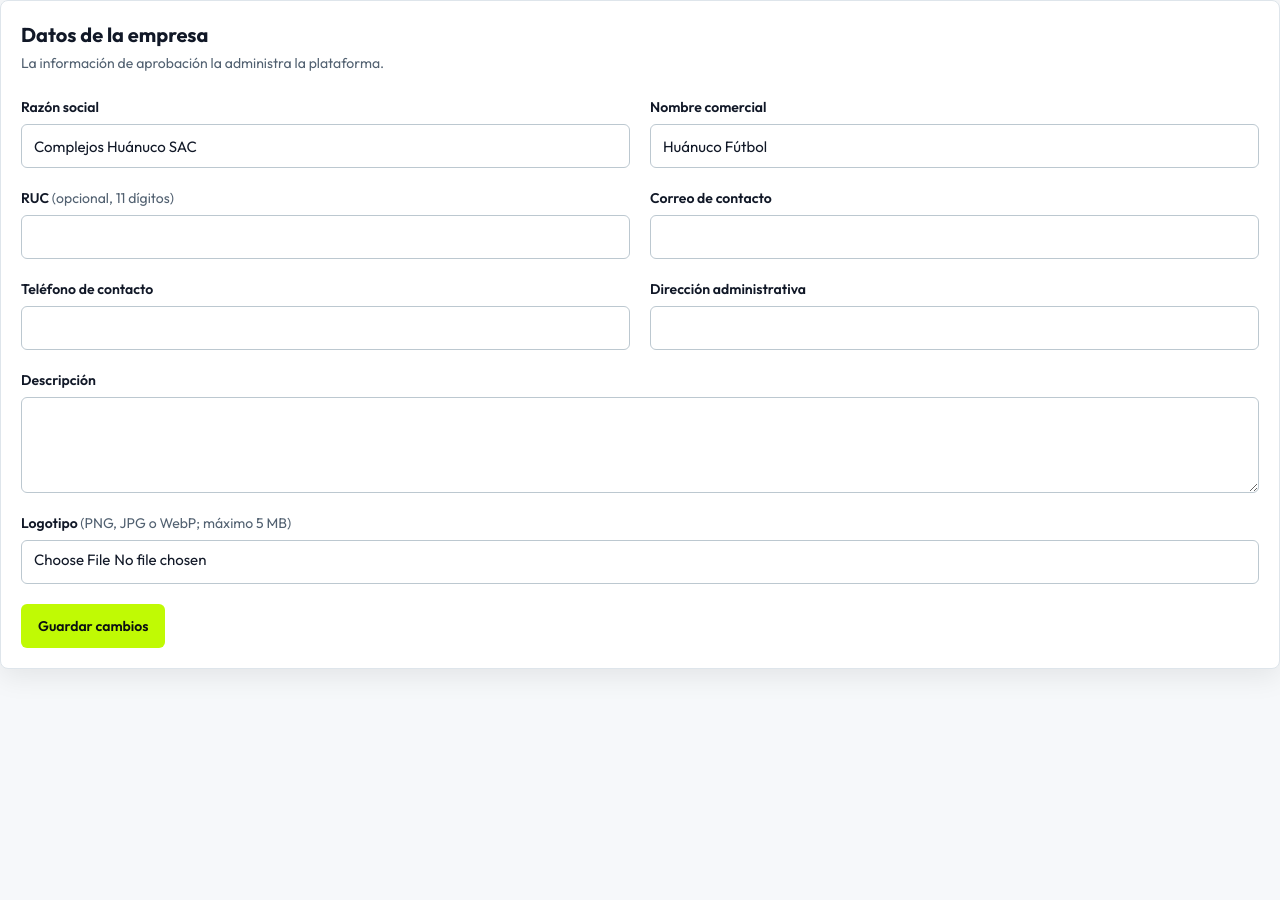
Test: Empresa y sedes › guarda cambios de empresa y anuncia el resultado
Replace the text in the field with id "nombre_comercial" with "Huánuco Nuevo" at (954, 146), box [650, 124, 1259, 168]
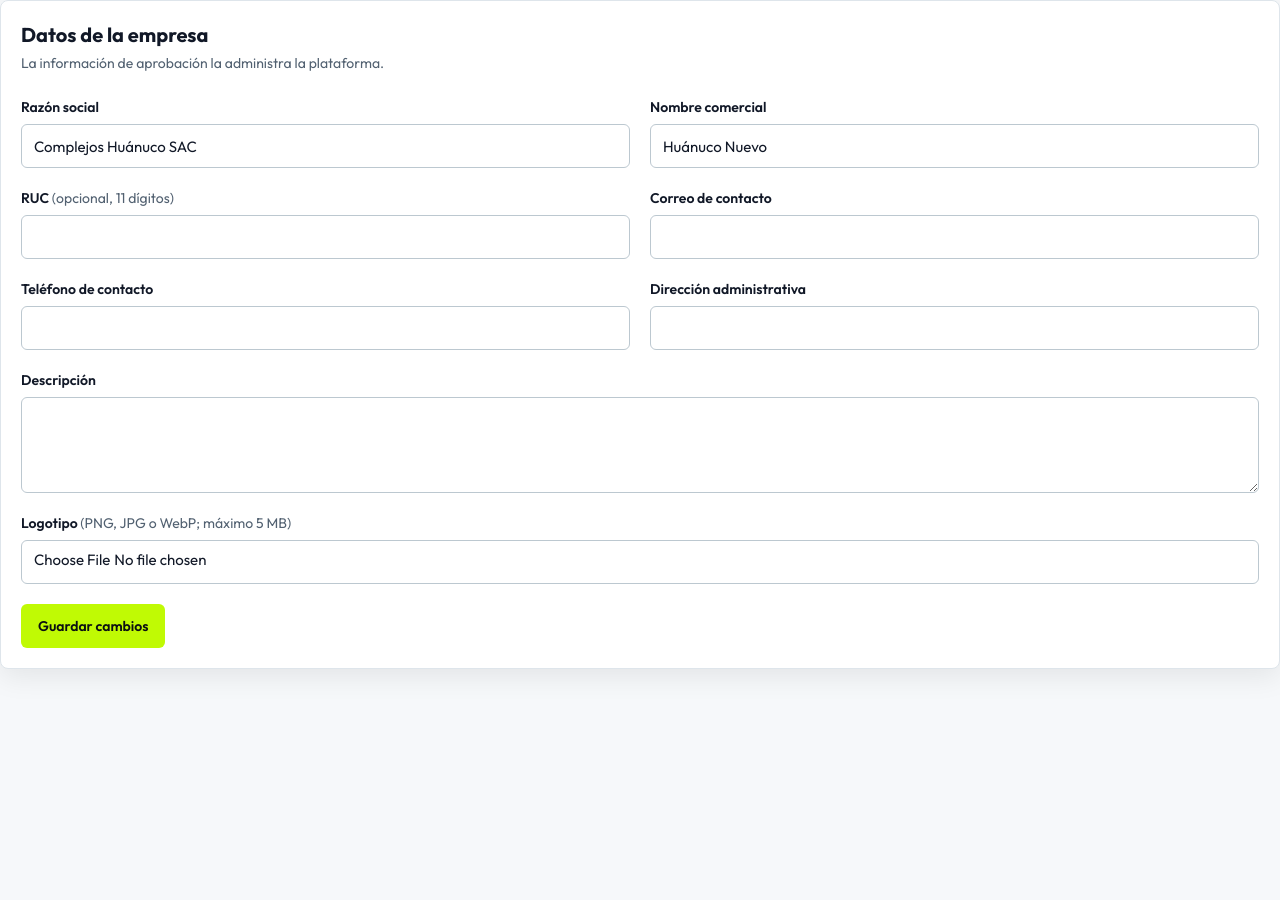
Submit the form, box [21, 97, 1259, 648]
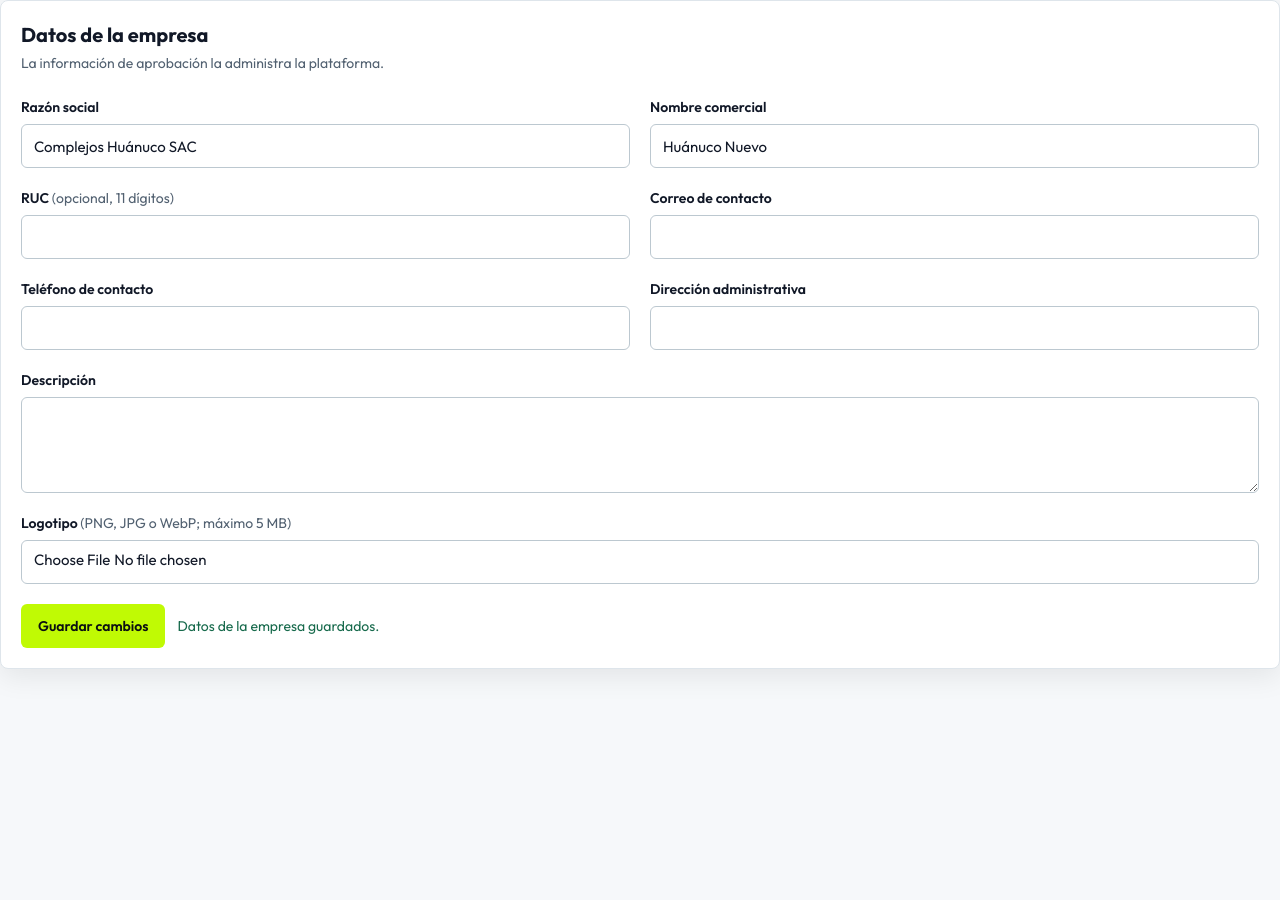
Now the message "Datos de la empresa guardados." is shown, box [177, 616, 379, 636]
